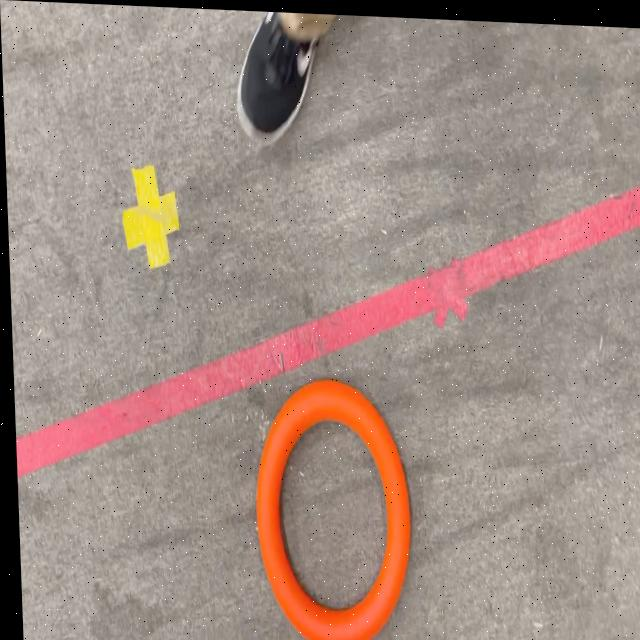note: (248, 373, 409, 640)
